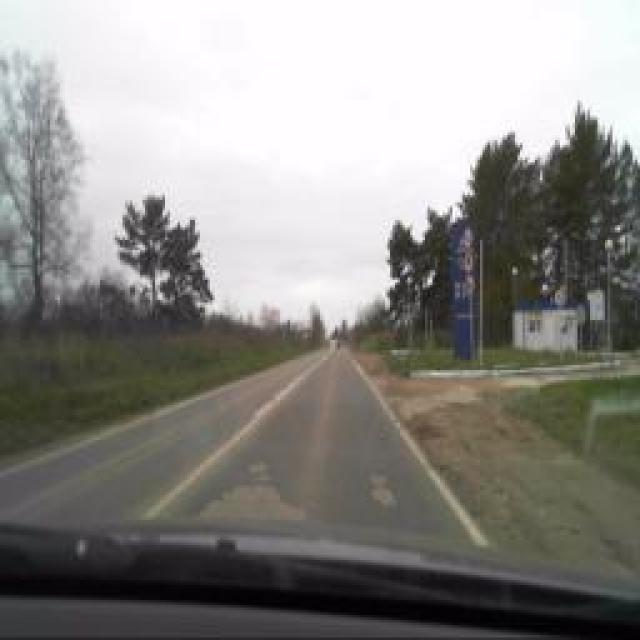sign: (552, 286, 568, 309), (464, 251, 474, 271)
